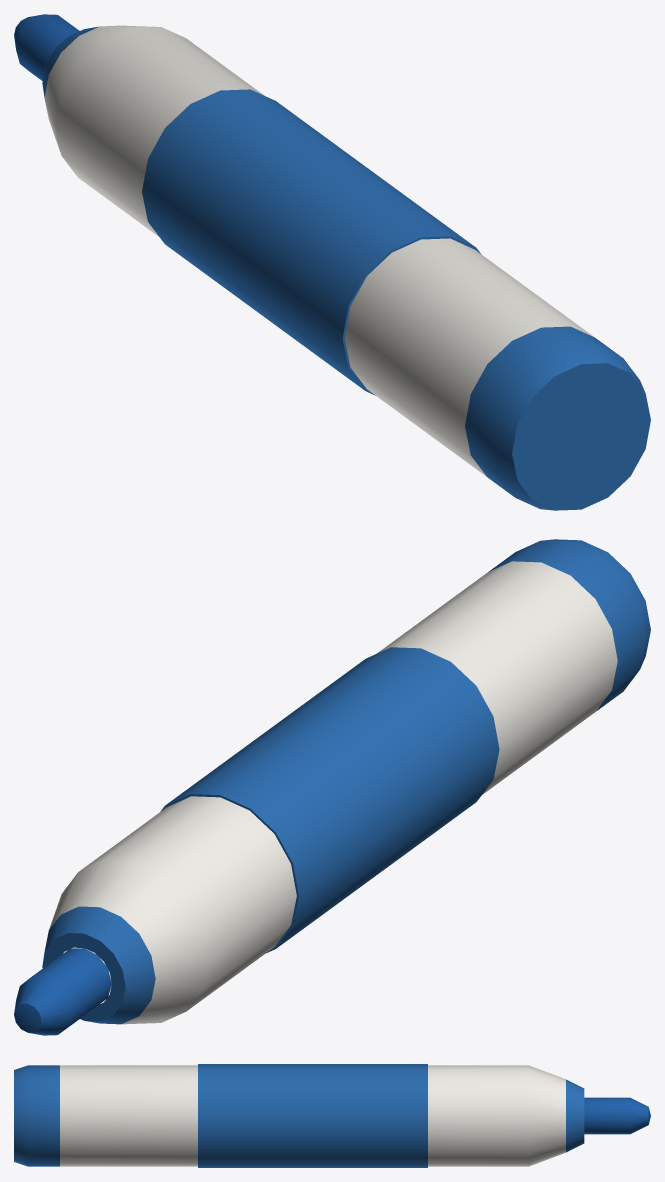
The model's file is paint_marker.glb.
The picture shows the model from 3 angles, top to bottom: view 1: azimuth 30°, elevation 25°; view 2: azimuth 150°, elevation 25°; view 3: azimuth 270°, elevation 25°; orthographic projection. The views are drawn at different scales.
Visible parts, largest first — view 1: paint_marker; view 2: paint_marker; view 3: paint_marker.
Boxes of the visible parts, bbox=[...] form: paint_marker: bbox=[14, 14, 650, 510]; paint_marker: bbox=[14, 539, 650, 1035]; paint_marker: bbox=[14, 1064, 650, 1167].
Size of the model in its own units: 0.0228 by 0.0228 by 0.14.
